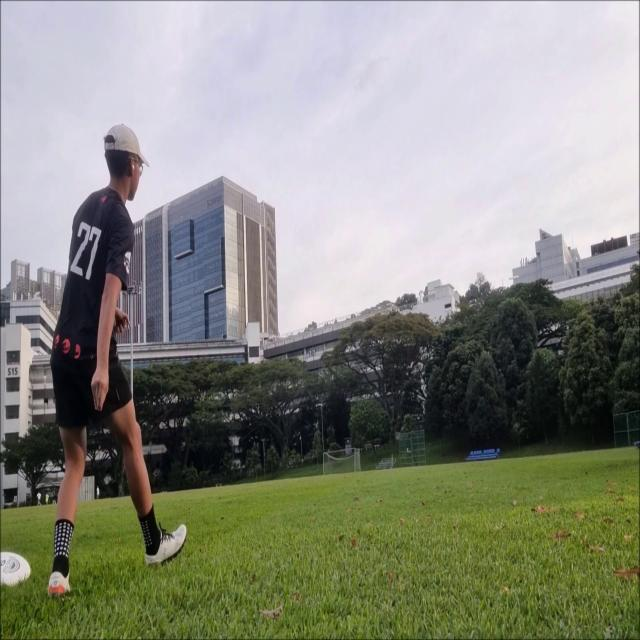disc: (507, 274, 521, 280)
